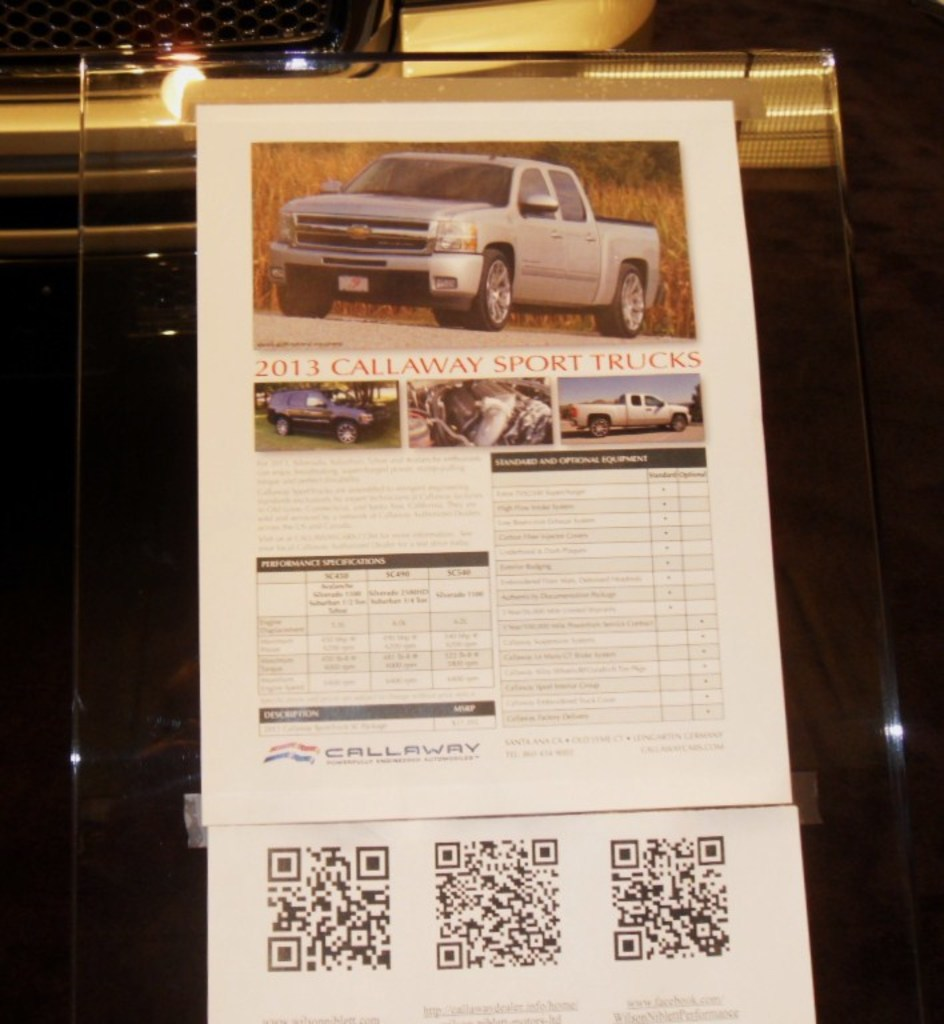Car: (0, 0, 842, 382), (266, 387, 393, 446)
